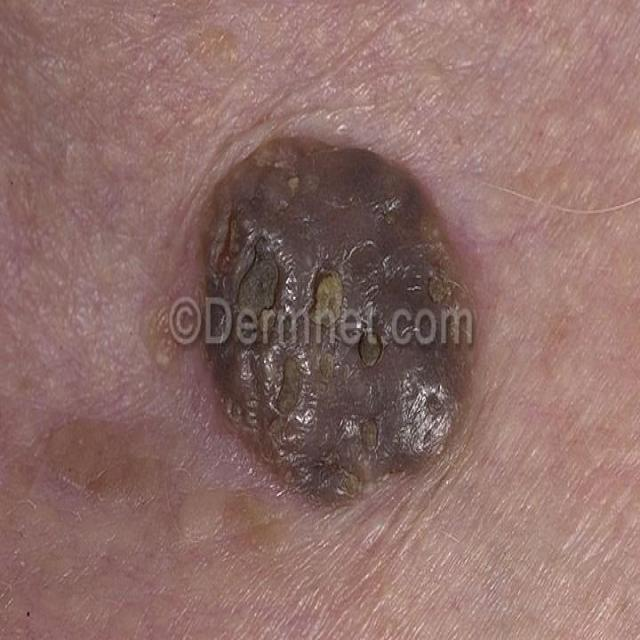Eczema: (183, 134, 466, 516)
